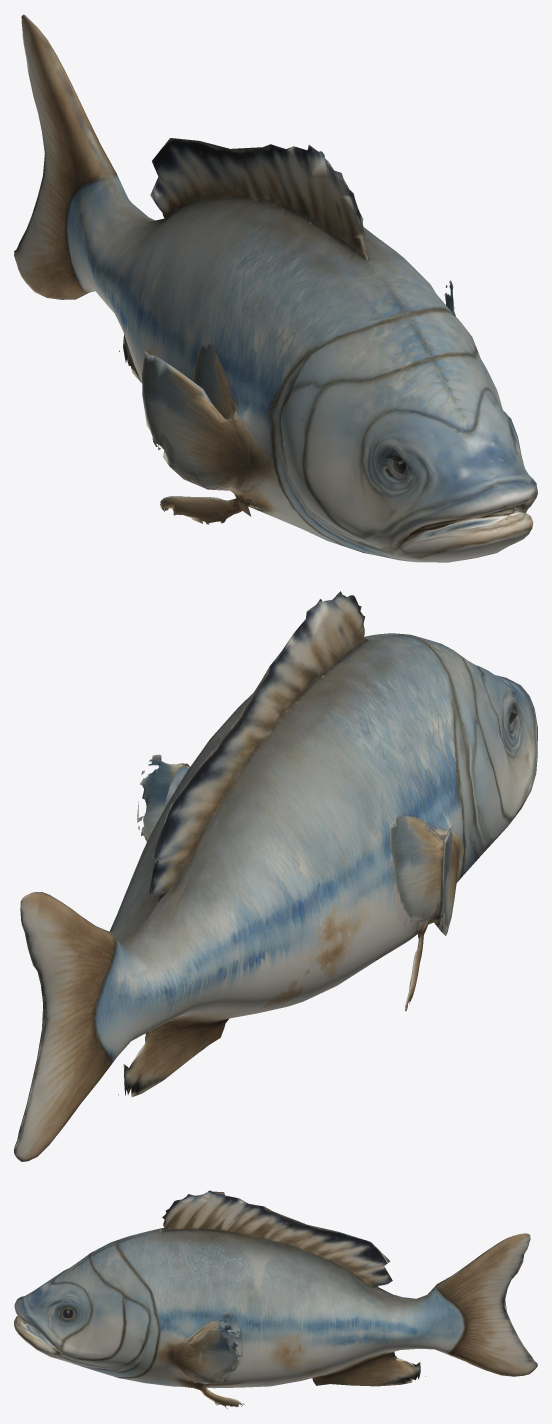
Rendered from Ein Fisssch v1.glb.
The picture shows the model from 3 angles, top to bottom: view 1: azimuth 30°, elevation 25°; view 2: azimuth 150°, elevation 25°; view 3: azimuth 270°, elevation 25°; orthographic projection. The views are drawn at different scales.
Parts seen in each view (by area): view 1: Mesh0; view 2: Mesh0; view 3: Mesh0.
Boxes of the visible parts, <box> form: Mesh0: <box>14,14,537,562</box>; Mesh0: <box>14,591,537,1161</box>; Mesh0: <box>14,1190,537,1408</box>.
Size of the model in its own units: 0.7117 by 0.8208 by 1.99.
1 material, 1 textured.
